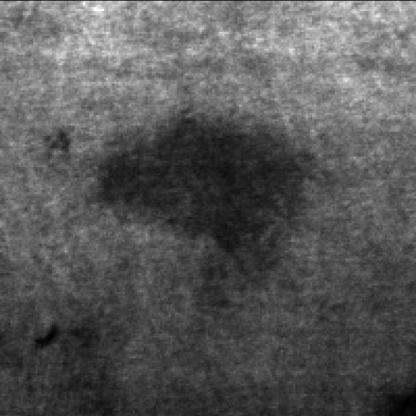patches: (92, 117, 322, 266)
